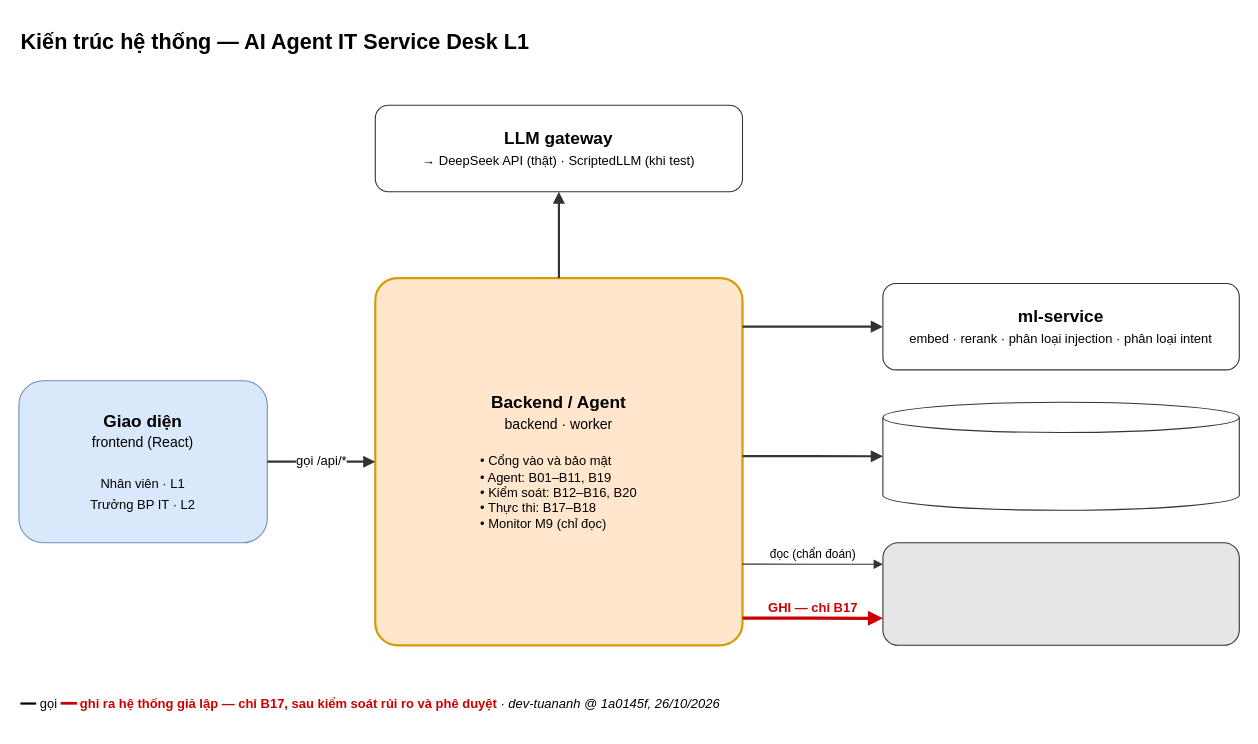
This 1258x744 diagram has some shape labels left out. The centre of each missing label's shape, as x and y in pixels:
"Hệ thống giả lập mock AD · VPN · phần mềm · thư mục · SMS/email" belongs at [1060,593].
"RAG / DB qdrant — kho vector KB postgres — ticket · audit · phê duyệt" belongs at [1060,455].
